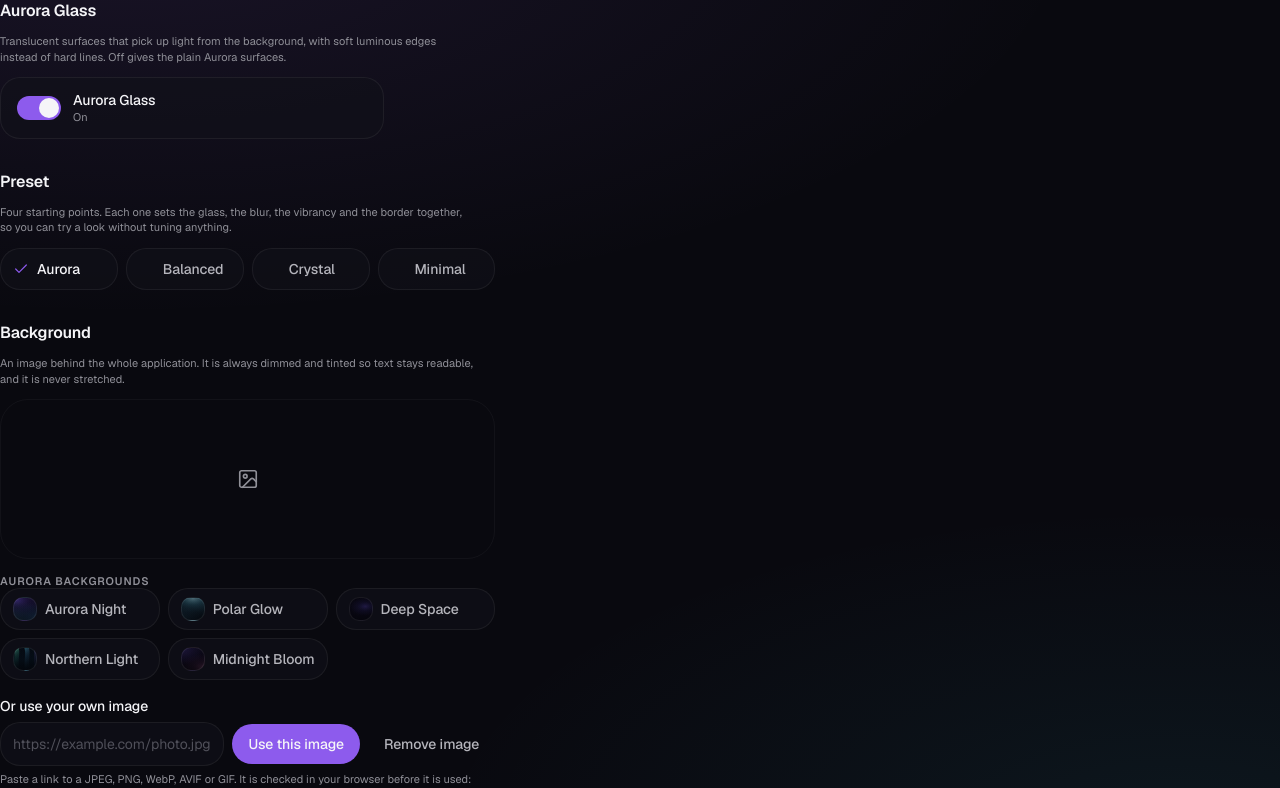
Test case: the background URL field › refuses an image that will not decode
Type "https://img.test/broken.png" into the field with test id "background-url".
click(112, 744); type("https://img.test/broken.png")  # box [0,722,224,766]
Then press Enter
(page scrolled)
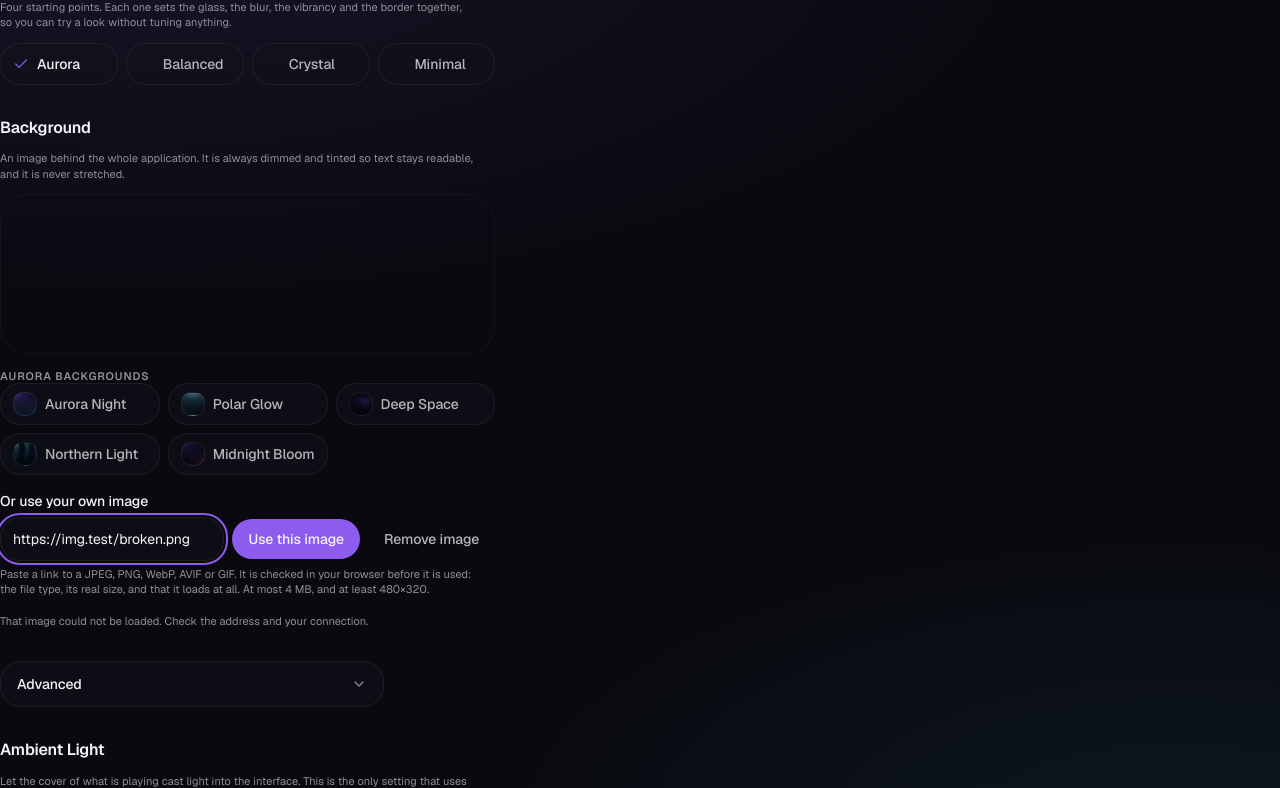
Check: the message "That image could not be loaded. Check the address and your connection." is shown, box [0,614,368,628]
